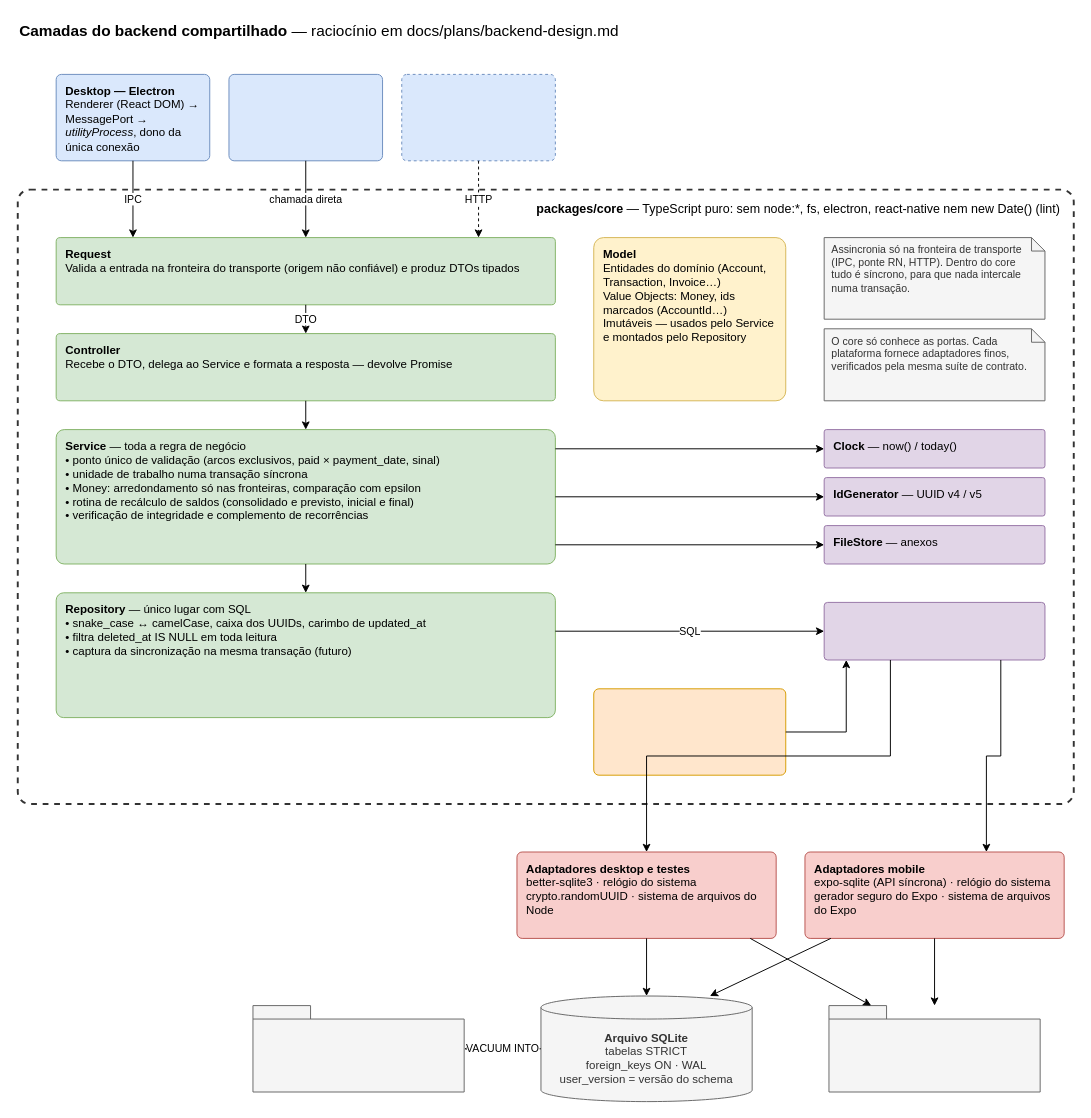
Image size: 1091x1118. Some labels were removed from this diagram. The shapes that lost their labels are listed below. From the top down, each one's box as (x1, y1, x2, y2) in pixels, then its label:
(228, 73, 383, 161): Mobile — React Native / Expo UI → chamada direta na thread JS
(401, 73, 555, 161): Serviço web (futuro) Cliente → rotas HTTP num processo Node
(823, 601, 1045, 660): Database — run, get, all, transaction(fn) síncrona
(593, 688, 786, 775): Runner de migrations pragmas → backup → migrations → integridade → recorrências
(252, 1005, 464, 1092): backups/ pre-v{N}-{data}.sqlite gravado pelo runner antes de migrar
(828, 1005, 1040, 1092): Anexos em disco profile/{id}/attachments/ {transação}/{nome}
